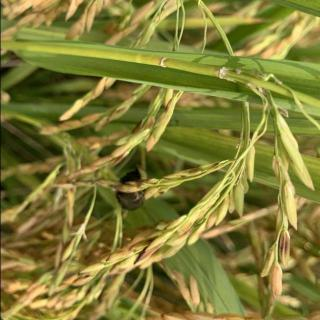Gosong-Palsu: (114, 169, 148, 212)
